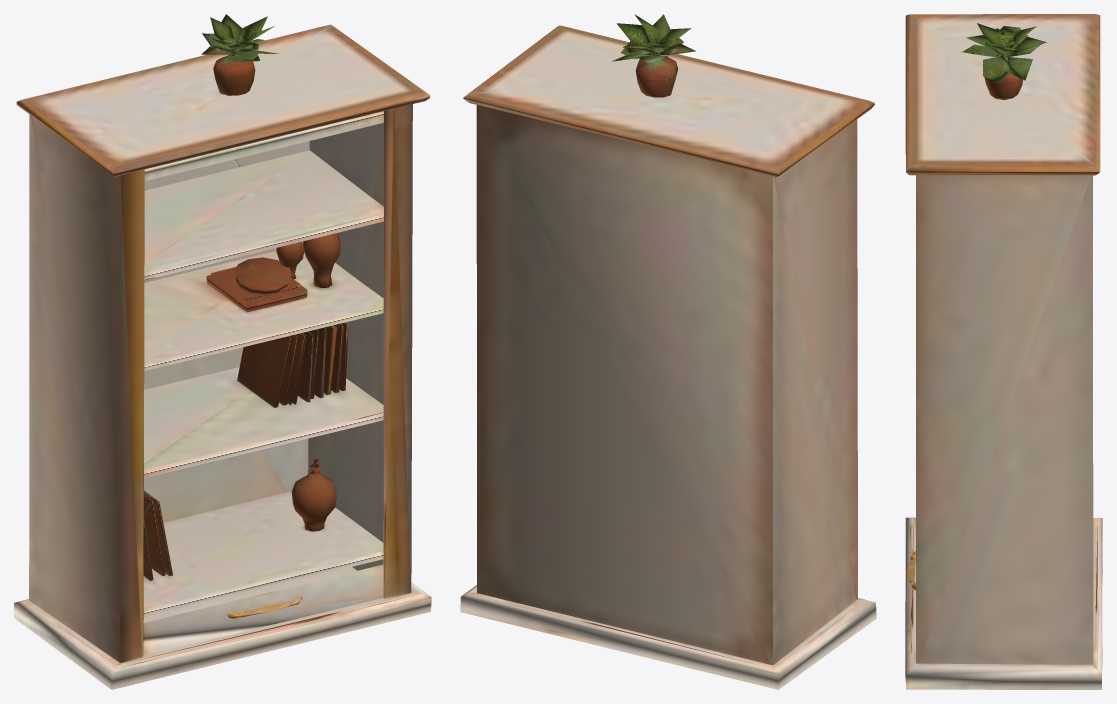
File: keepsake-shelf.glb
3 views of the same model, side by side, from view 1: azimuth 30°, elevation 25°; view 2: azimuth 150°, elevation 25°; view 3: azimuth 270°, elevation 25° (orthographic).
Visible parts, largest first — view 1: keepsake-shelf; view 2: keepsake-shelf; view 3: keepsake-shelf.
Boxes of the visible parts, bbox=[...] form: keepsake-shelf: bbox=[14, 14, 431, 689]; keepsake-shelf: bbox=[460, 14, 876, 689]; keepsake-shelf: bbox=[905, 14, 1102, 689].
Bounding box in the file's own units: 0.9152 × 1.6 × 0.487.
Materials: 1 (1 with a texture image).
